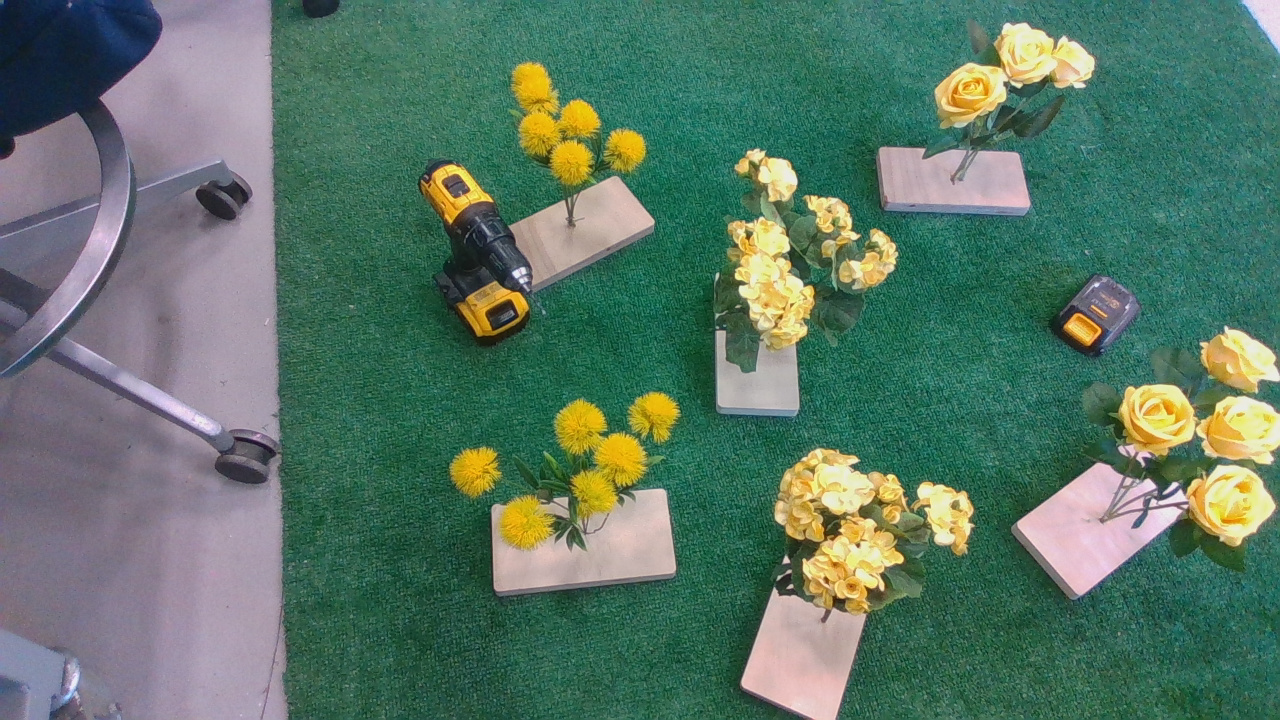dandelion: (447, 390, 691, 559), (506, 60, 659, 197)
geranium: (715, 147, 915, 399), (731, 452, 994, 636)
rose: (1081, 327, 1280, 590), (917, 24, 1114, 178)
